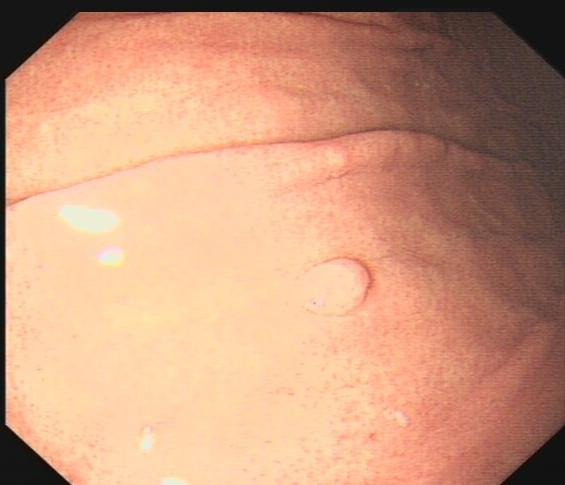Polyp: (294, 253, 375, 317)
